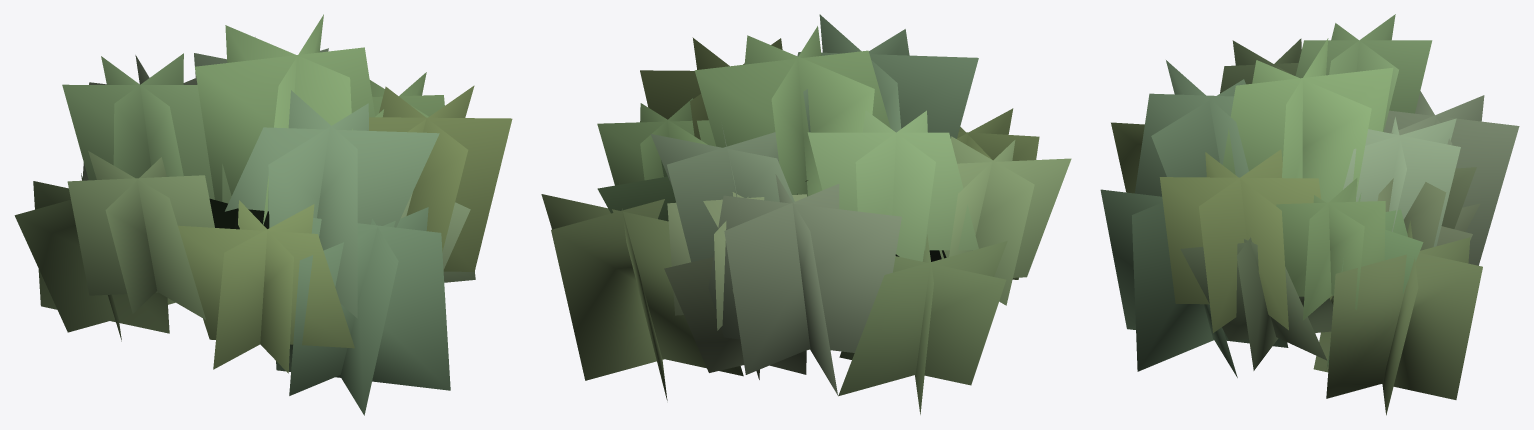
Rendered from bush.glb.
The picture shows the model from 3 angles, left to right: view 1: azimuth 30°, elevation 25°; view 2: azimuth 150°, elevation 25°; view 3: azimuth 270°, elevation 25°; orthographic projection. The views are drawn at different scales.
Parts seen in each view (by area): view 1: bush; view 2: bush; view 3: bush.
Part boxes in pixels (x1,y1,x2,y2): bush: (14,14,512,415); bush: (541,14,1071,414); bush: (1100,14,1519,415).
Bounding box in the file's own units: 2.92 × 1.85 × 2.64.
